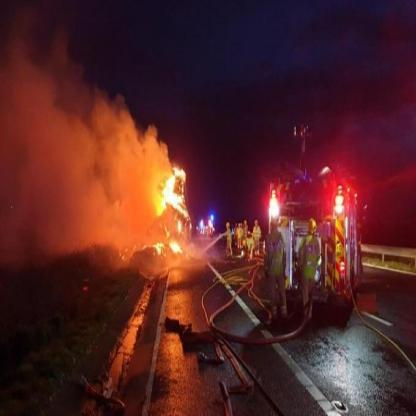fire: (147, 157, 194, 262)
other: (326, 173, 360, 231), (196, 202, 220, 236), (266, 177, 281, 227)
smoke: (0, 50, 155, 258)
